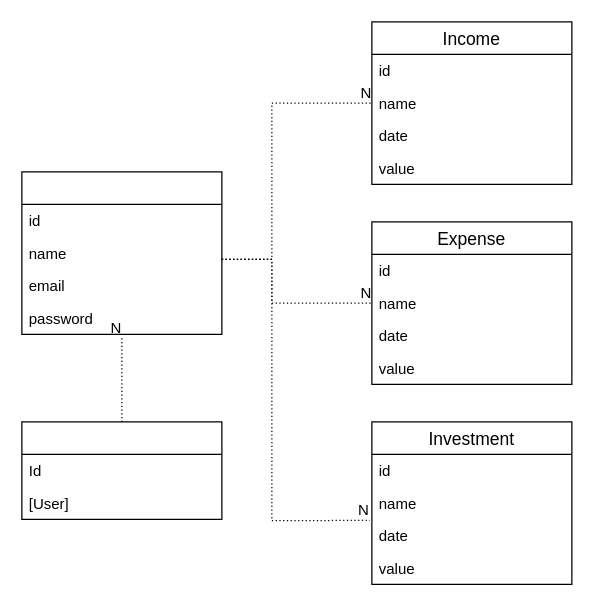
The diagram is 594 pixels wide and 610 high, and some of its shapes have lost their labels. The box of each missing label's shape, as (x1, y1, x2, y2) in pixels:
Company: (21, 421, 222, 519)
User: (21, 171, 222, 334)
